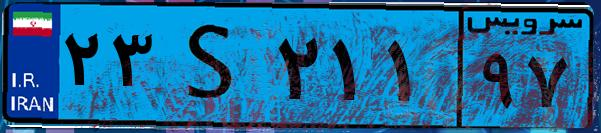1: (385, 28, 445, 110), (330, 28, 385, 110)
2: (270, 28, 330, 110), (57, 26, 110, 100)
3: (110, 28, 158, 98)
7: (525, 38, 570, 115)
9: (475, 38, 525, 113)
S: (158, 12, 270, 120)
